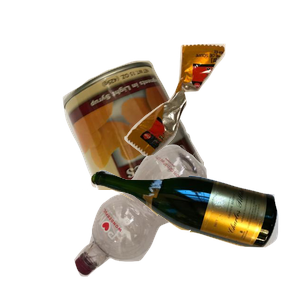glass: (88, 167, 300, 300)
metal: (60, 58, 300, 238)
plastic: (72, 142, 273, 300)
trash: (122, 41, 300, 190)
